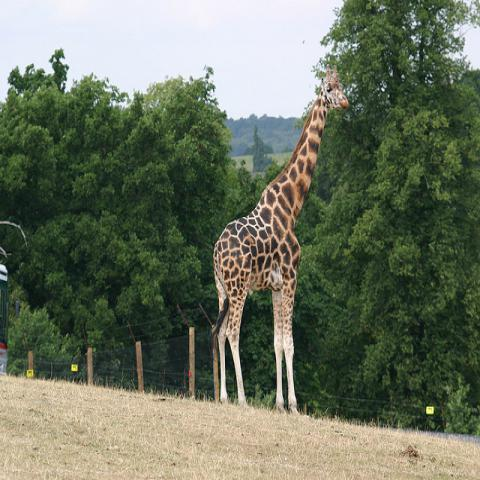bus: (0, 251, 13, 381)
